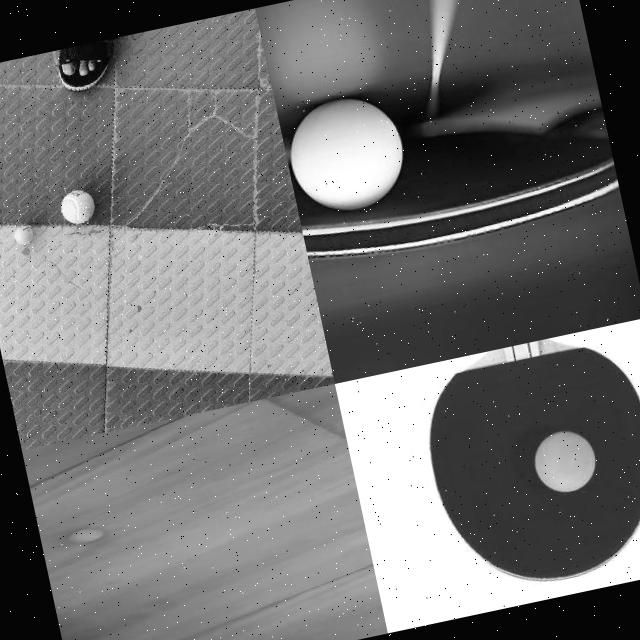ping-pong-ball: (280, 90, 410, 218), (528, 428, 602, 496), (64, 525, 106, 544), (10, 222, 36, 246)
